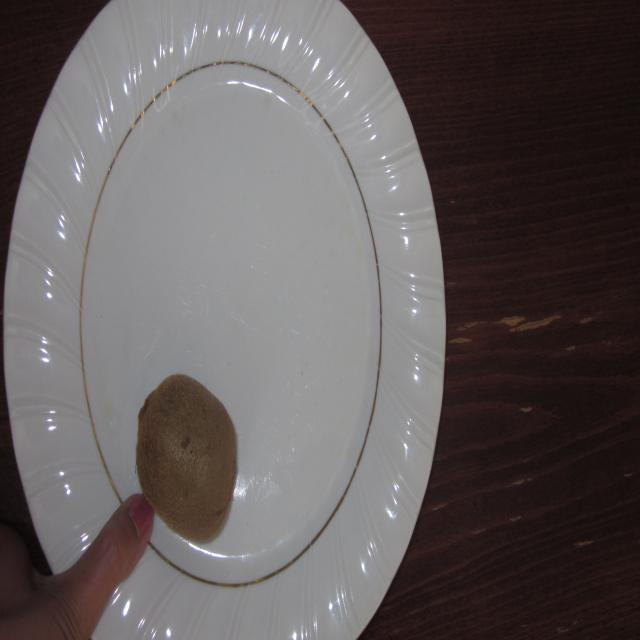kiwi: (134, 369, 238, 544)
